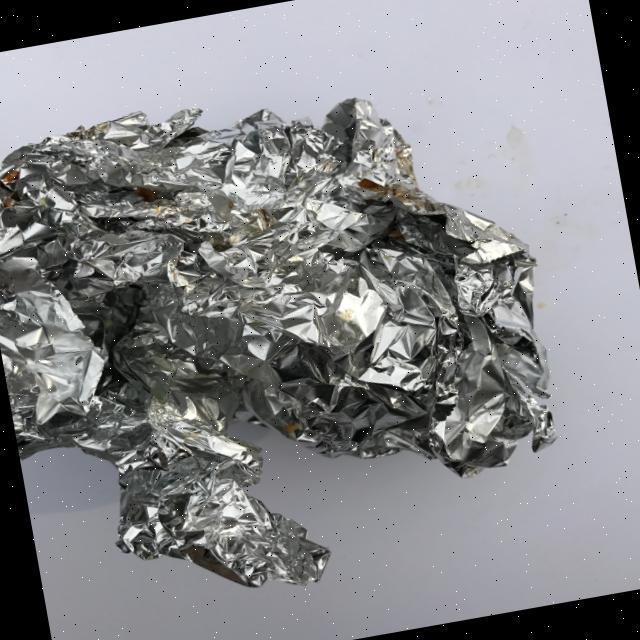metal: (0, 46, 584, 629)
